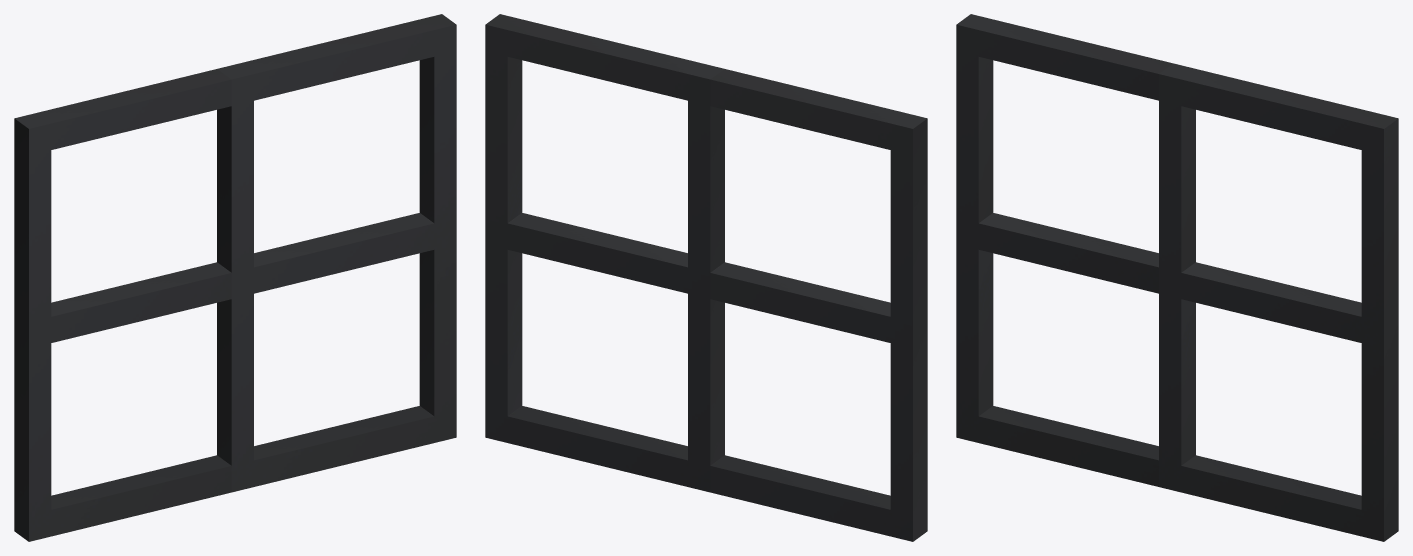
The model's file is Wall_SteelColumn3.fbx.
3 views of the same model, side by side, from view 1: azimuth 30°, elevation 25°; view 2: azimuth 150°, elevation 25°; view 3: azimuth 330°, elevation 25° (orthographic).
Visible parts, largest first — view 1: Wall_SteelColumn3; view 2: Wall_SteelColumn3; view 3: Wall_SteelColumn3.
Part boxes in pixels (bbox=[...]): Wall_SteelColumn3: bbox=[14, 14, 456, 541]; Wall_SteelColumn3: bbox=[485, 14, 927, 541]; Wall_SteelColumn3: bbox=[956, 14, 1398, 541].
Size of the model in its own units: 0.6798 by 0.6273 by 0.04.
Materials: 1 (1 with a texture image).
